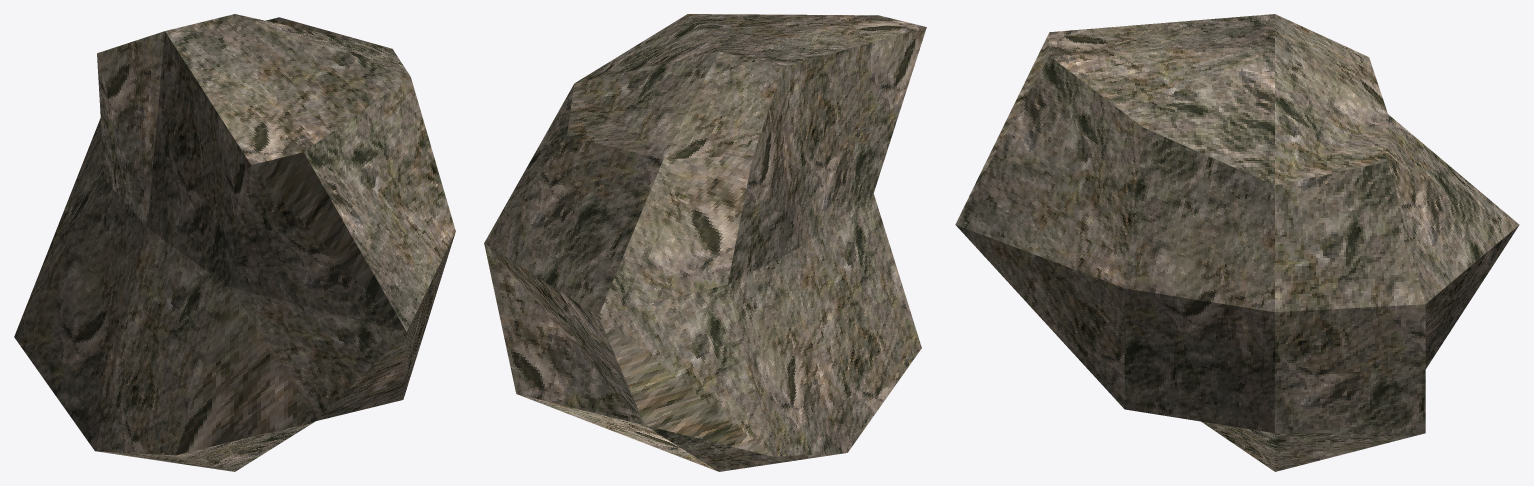
Rendered from rock_1.gltf.
3 views of the same model, side by side, from view 1: azimuth 30°, elevation 25°; view 2: azimuth 150°, elevation 25°; view 3: azimuth 270°, elevation 25° (orthographic). The views are drawn at different scales.
Parts seen in each view (by area): view 1: mesh; view 2: mesh; view 3: mesh.
Boxes of the visible parts, x1=… form: mesh: x1=14, y1=14, x2=455, y2=471; mesh: x1=484, y1=14, x2=926, y2=471; mesh: x1=955, y1=14, x2=1519, y2=471.
Bounding box in the file's own units: 1.19 × 1.56 × 1.88.
Materials: 1 (1 with a texture image).
